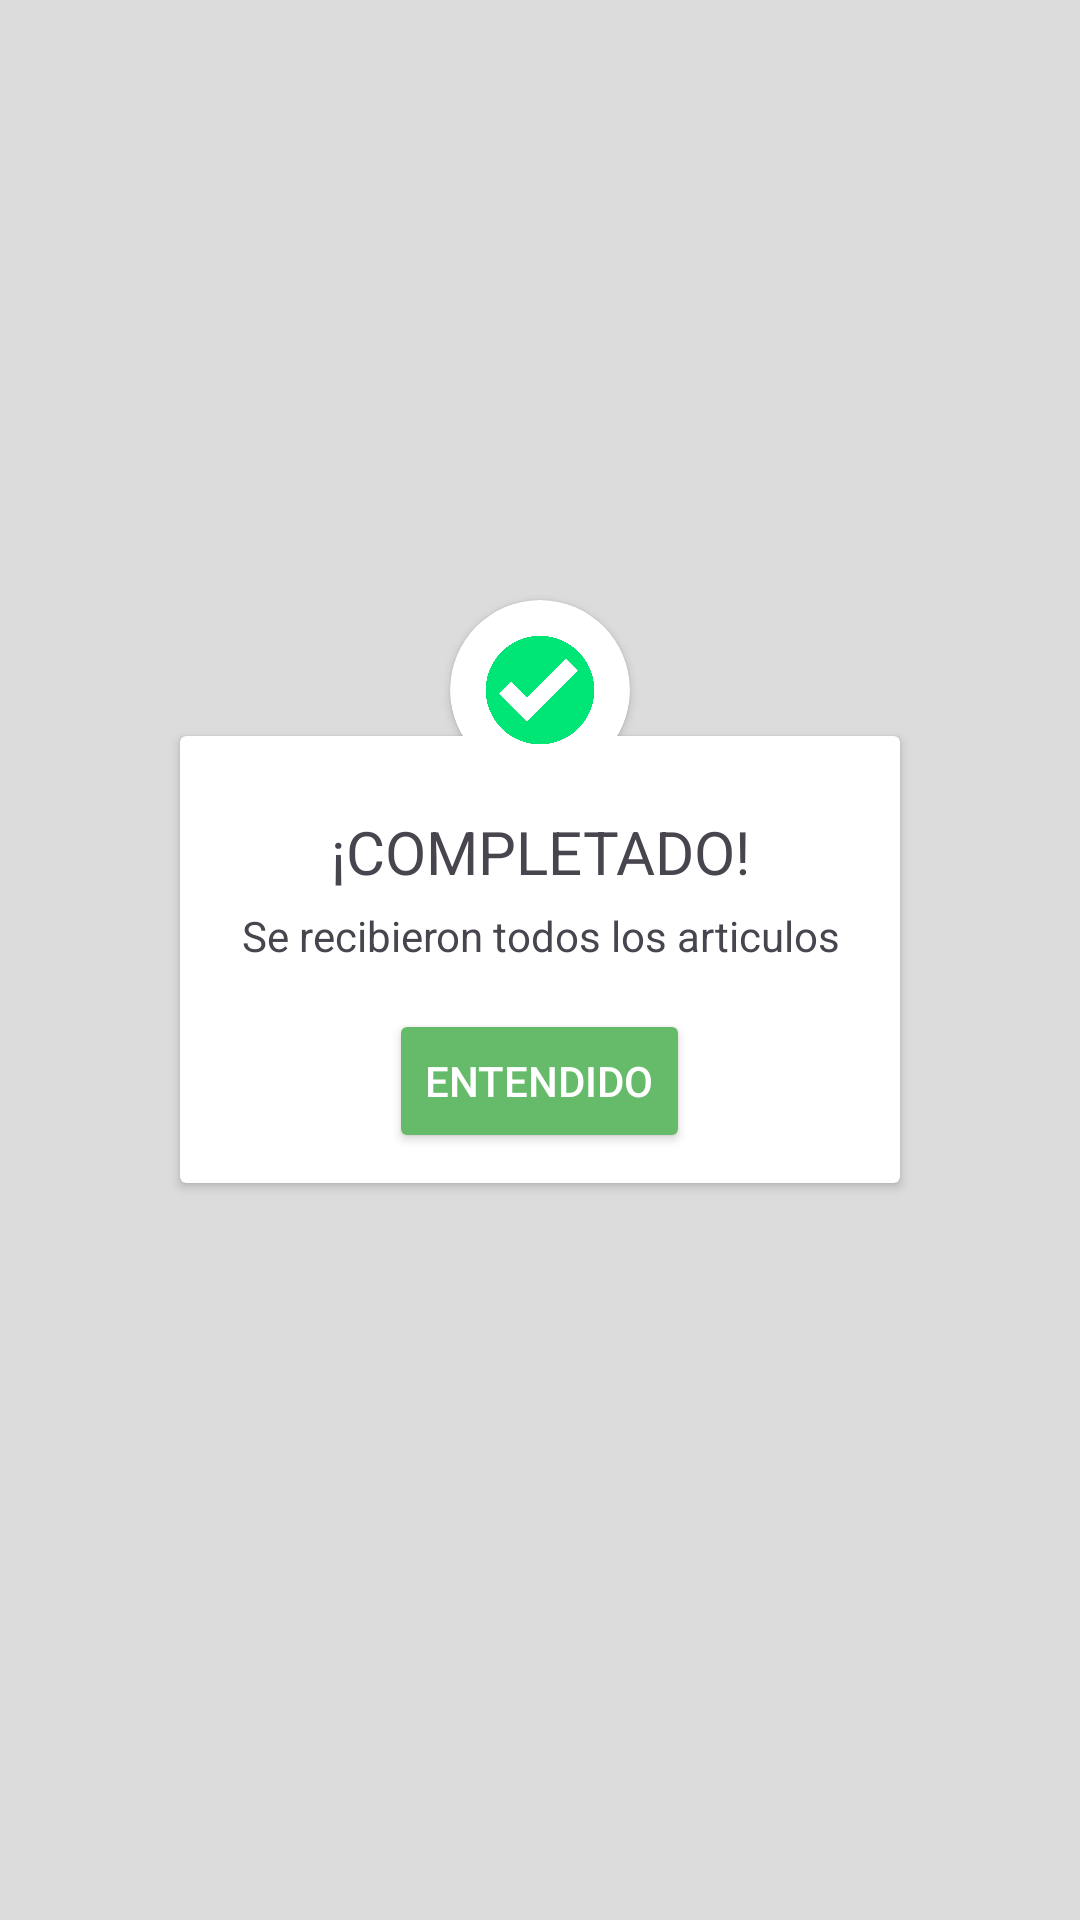

Named icons in this screenshot (1080px×1920px) and their centers, (x,y):
checkedcomplet: (540,690)
